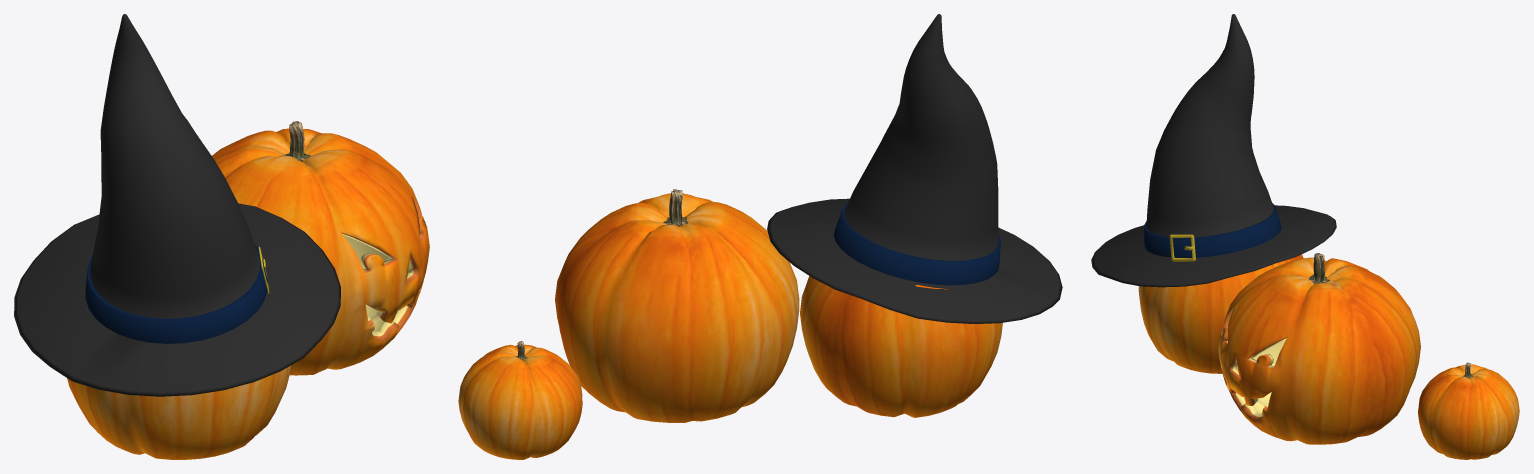
The model's file is pumpkin.dae.
The picture shows the model from 3 angles, left to right: view 1: azimuth 30°, elevation 25°; view 2: azimuth 150°, elevation 25°; view 3: azimuth 270°, elevation 25°; orthographic projection. The views are drawn at different scales.
Visible parts, largest first — view 1: Hat, Pumpkin; view 2: Pumpkin, Hat; view 3: Pumpkin, Hat.
Boxes of the visible parts, bbox=[...] form: Hat: bbox=[14, 14, 340, 396]; Pumpkin: bbox=[67, 121, 429, 459]; Pumpkin: bbox=[458, 189, 1002, 459]; Hat: bbox=[767, 14, 1062, 323]; Pumpkin: bbox=[1138, 253, 1519, 459]; Hat: bbox=[1091, 14, 1336, 287].
Size of what is drawn, in the model's own units: 0.6439 by 0.6886 by 0.5739.
11 materials, 2 textured.
